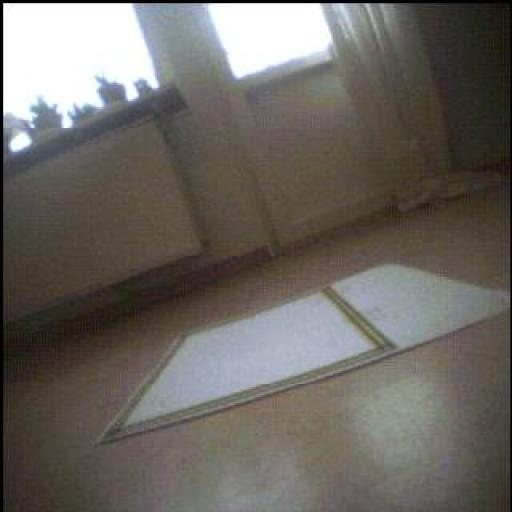Pad: (102, 265, 511, 443)
